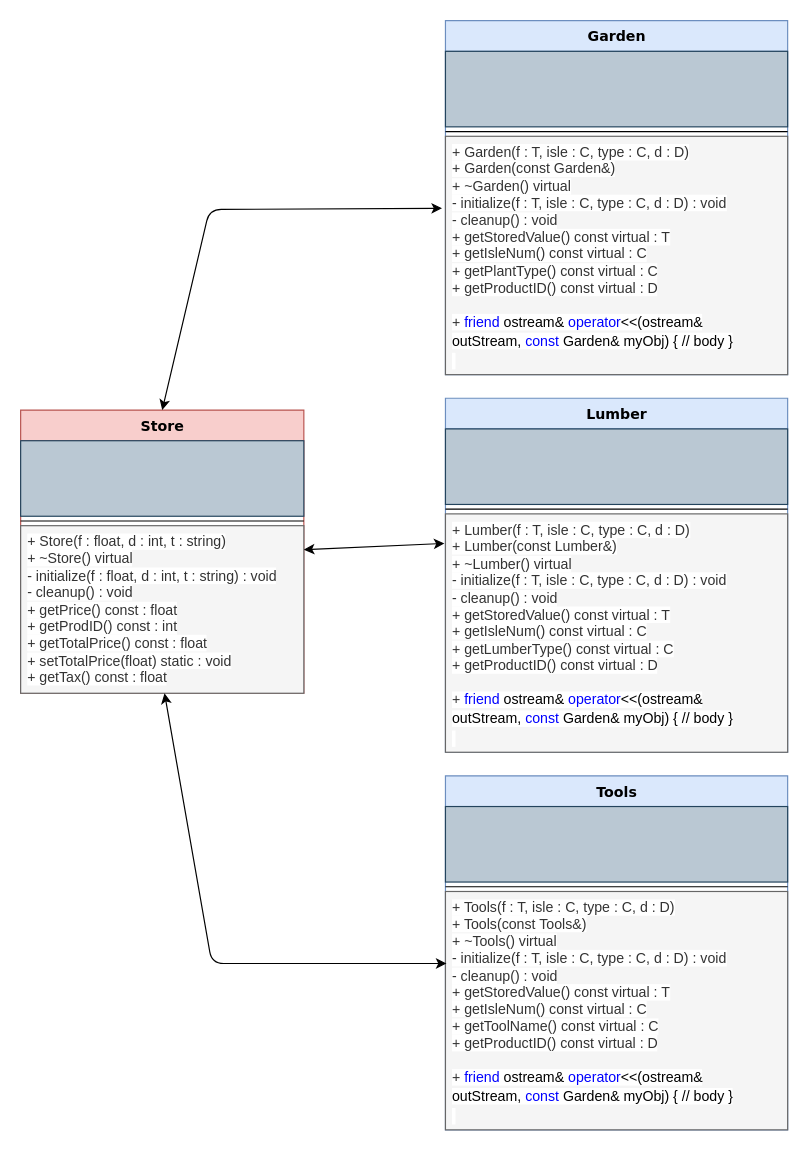
The diagram is 808 pixels wide and 1154 high, and some of its shapes have lost their labels. Each missing label, with the centre of its shape:
"# storedValue : T* # isleNum : C* # lumberType : C* # ProductID : D" goes at (x=616, y=466).
"# storedValue : T* # isleNum : C* # plantType : C* # ProductID : D" goes at (x=616, y=88).
"# storedValue : T* # isleNum : C* # toolName : C* # ProductID : D" goes at (x=616, y=843).
"- price : float* - ProdID : int - type : string # totalPrice static : float" goes at (x=161, y=478).
